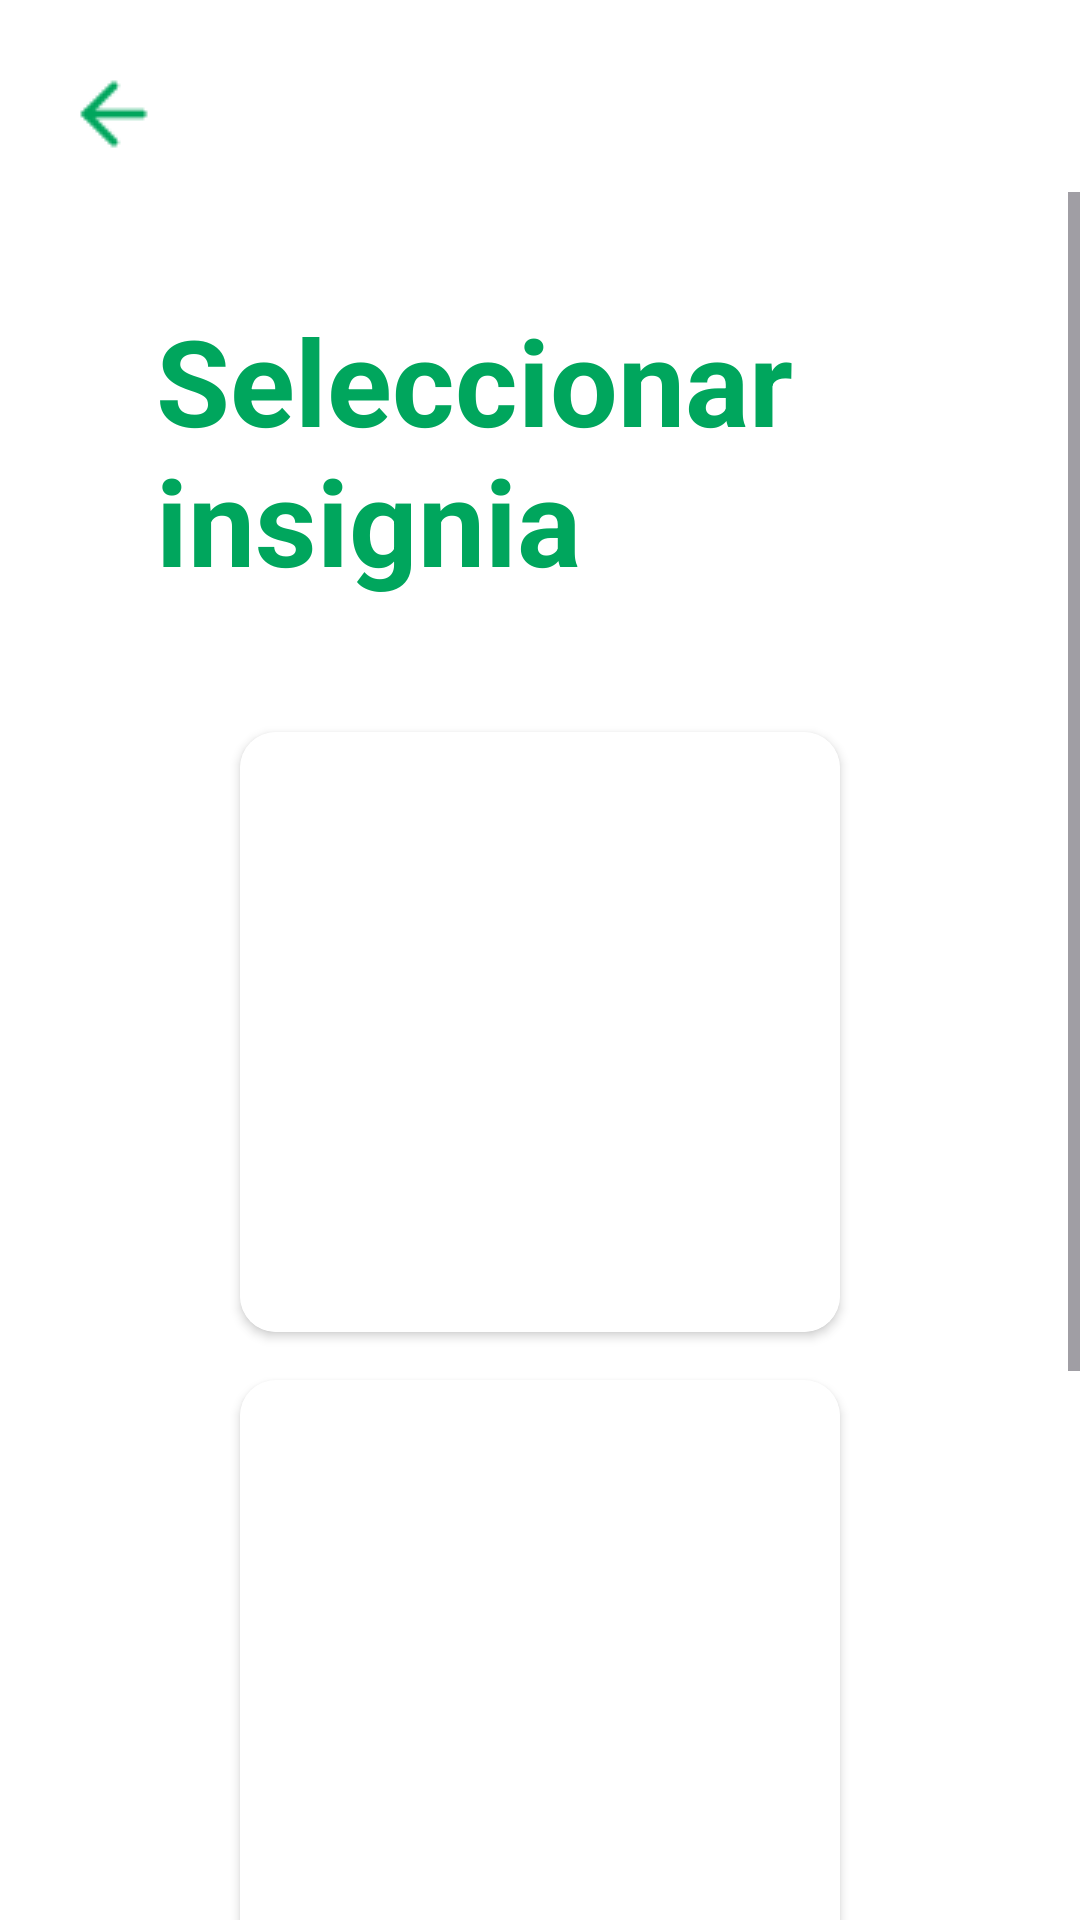

Point at icon controls on the screen. Image size 1080×1920, points as (x,y).
arrow left: (114,114)
